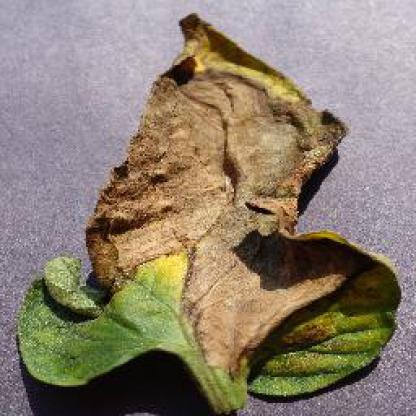bad leaf: (3, 10, 414, 414)
